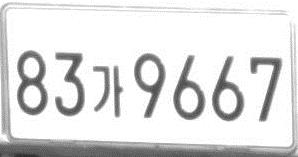3: (53, 51, 86, 117)
6: (211, 54, 245, 122), (172, 53, 205, 120)
7: (249, 55, 283, 122)
8: (17, 49, 48, 115)
9: (133, 52, 166, 119)
가: (90, 64, 124, 118)
